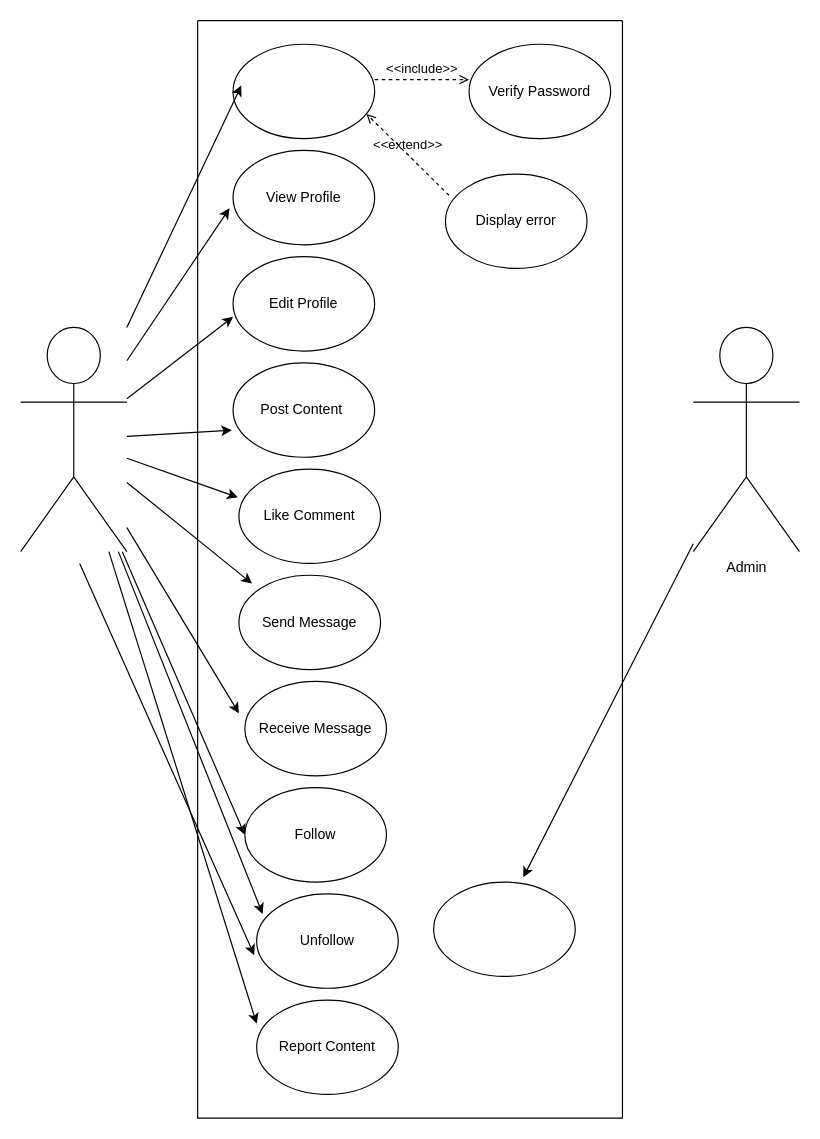
This 820x1139 diagram has some shape labels left out. Here are the shapes that lost their labels. From the top down, the box of each, then its label:
(232, 43, 375, 139): Login
(19, 326, 127, 552): User
(432, 881, 575, 976): Moderate Content
